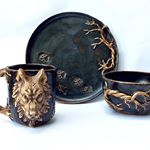cups: (1, 61, 60, 131)
